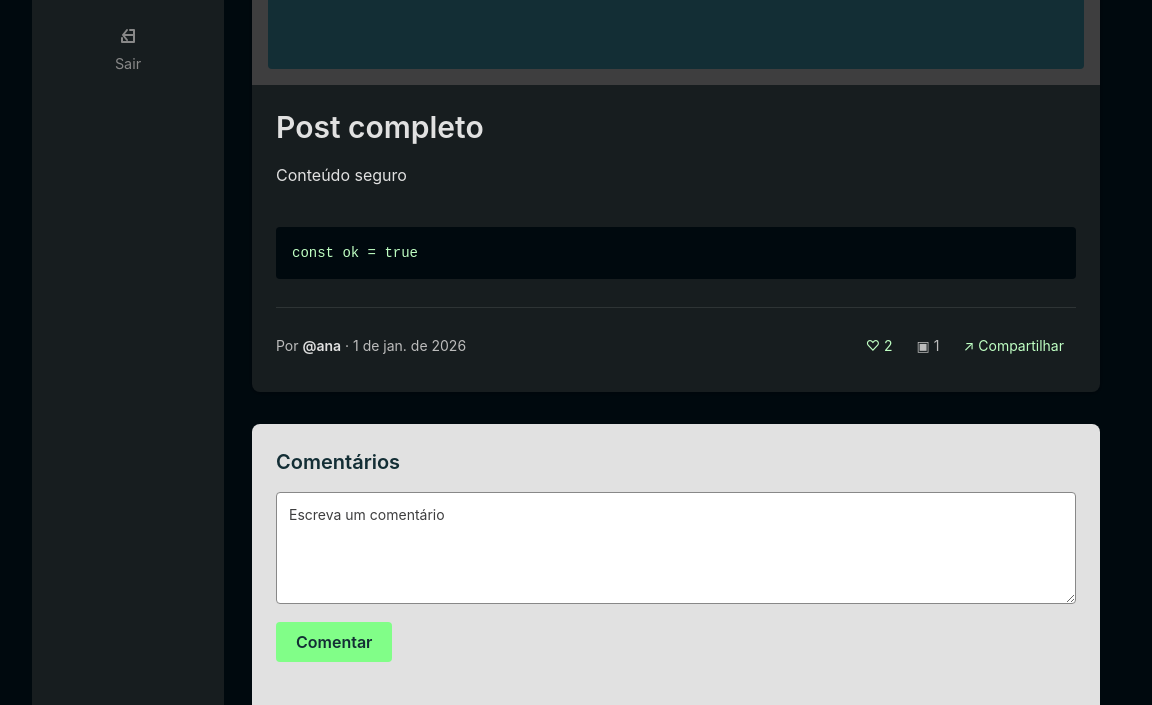
PostDetailsPage › queries and updates the authenticated like state using PUT and DELETE
The width and height of the screenshot is (1152, 705).
(page scrolled)
Click the button named "Curtir publicação": [879, 346] box left=854, top=324, right=905, bottom=368
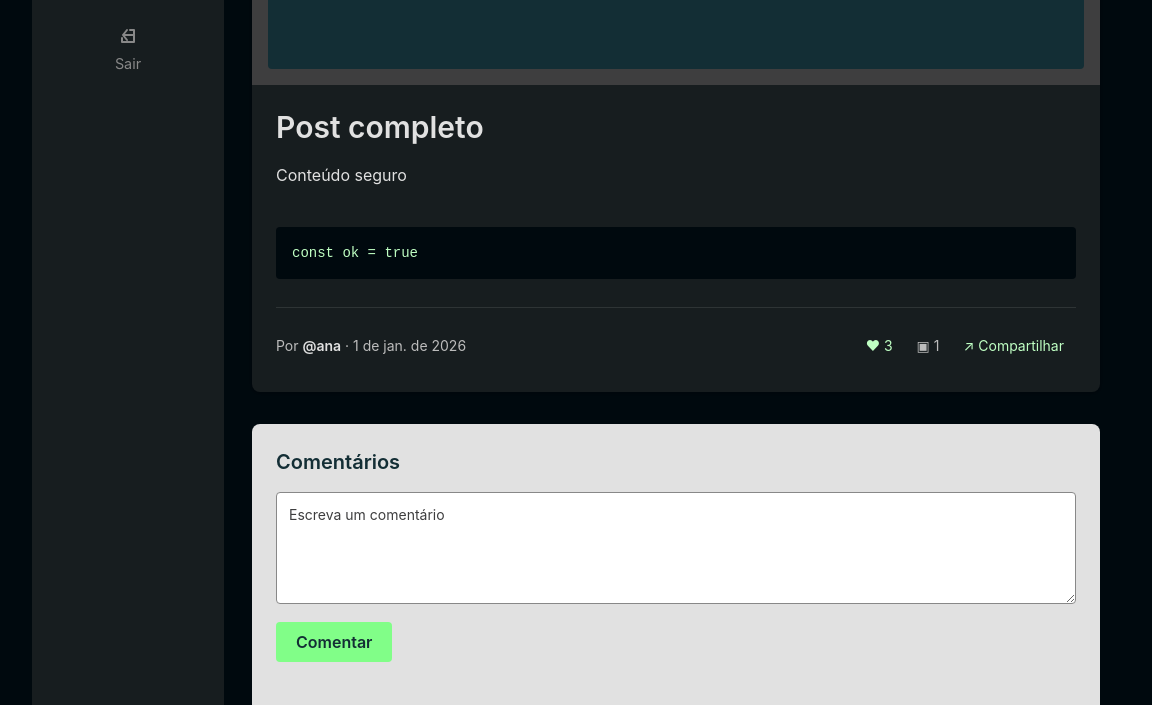
Expected: the button named "Remover curtida" shows "3"
Click the button named "Remover curtida": [879, 346] box left=854, top=324, right=905, bottom=368
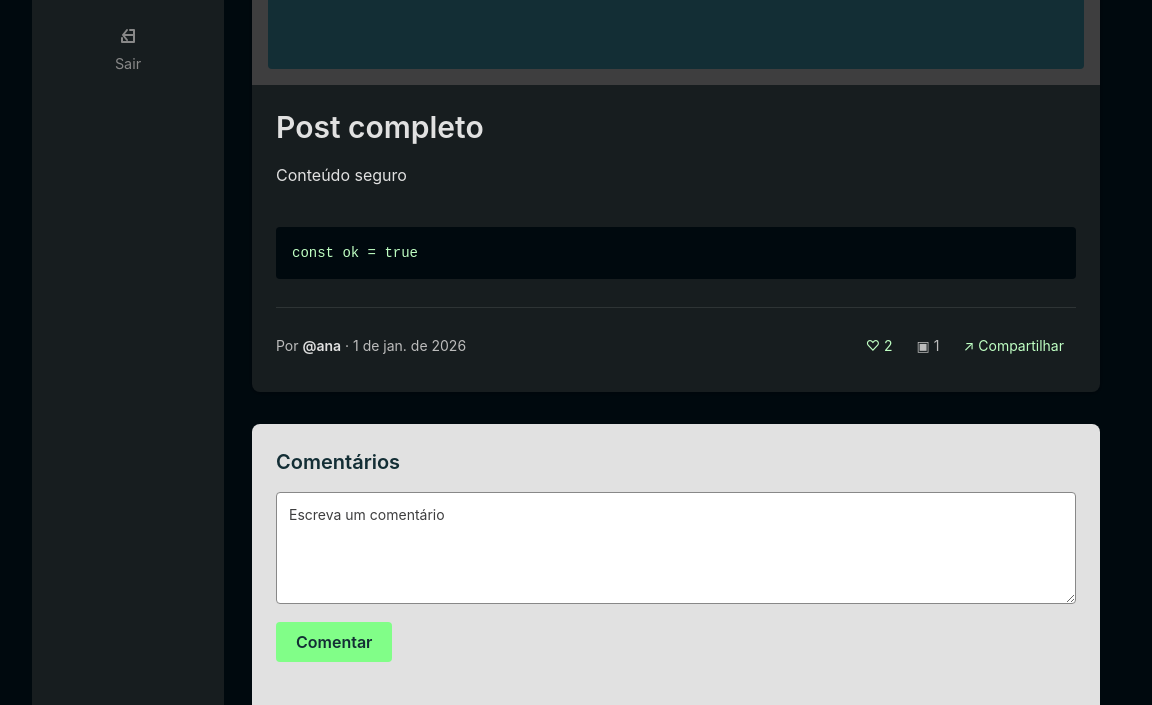
Expected: the button named "Curtir publicação" shows "2", left=854, top=324, right=905, bottom=368
